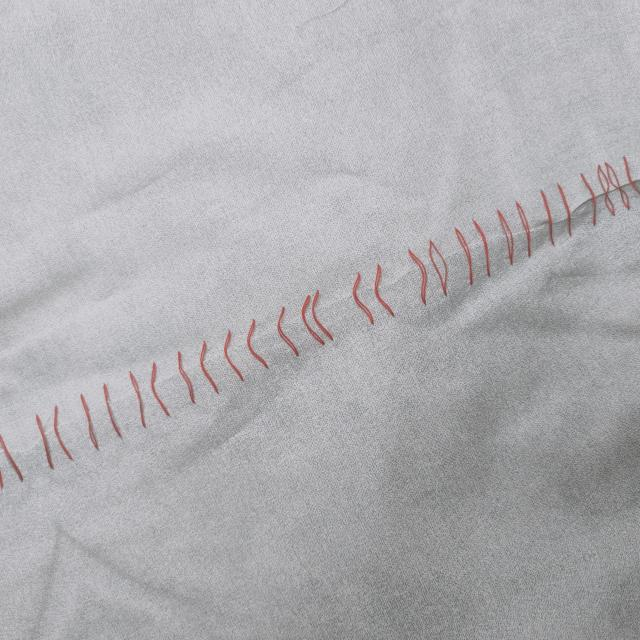gray stitch: (351, 148, 638, 328), (173, 282, 338, 405), (0, 361, 168, 478)
